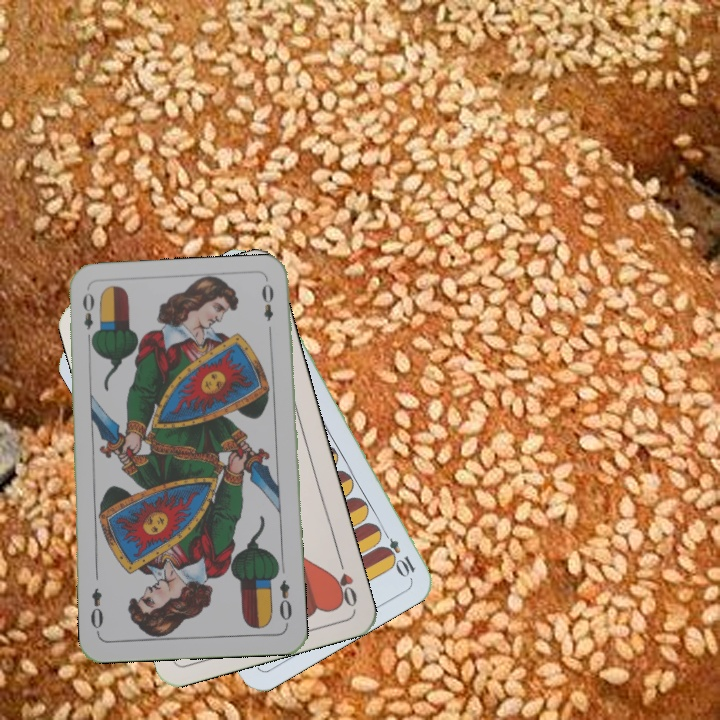E10: (376, 525, 418, 579)
EO: (78, 288, 99, 347), (275, 576, 295, 628)
HO: (329, 552, 360, 610)
